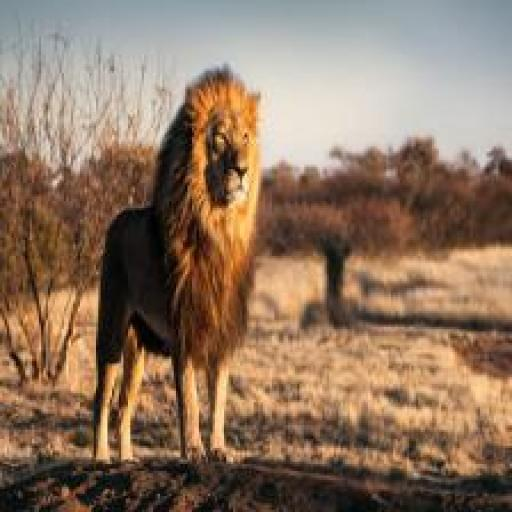lion: (91, 64, 262, 466)
